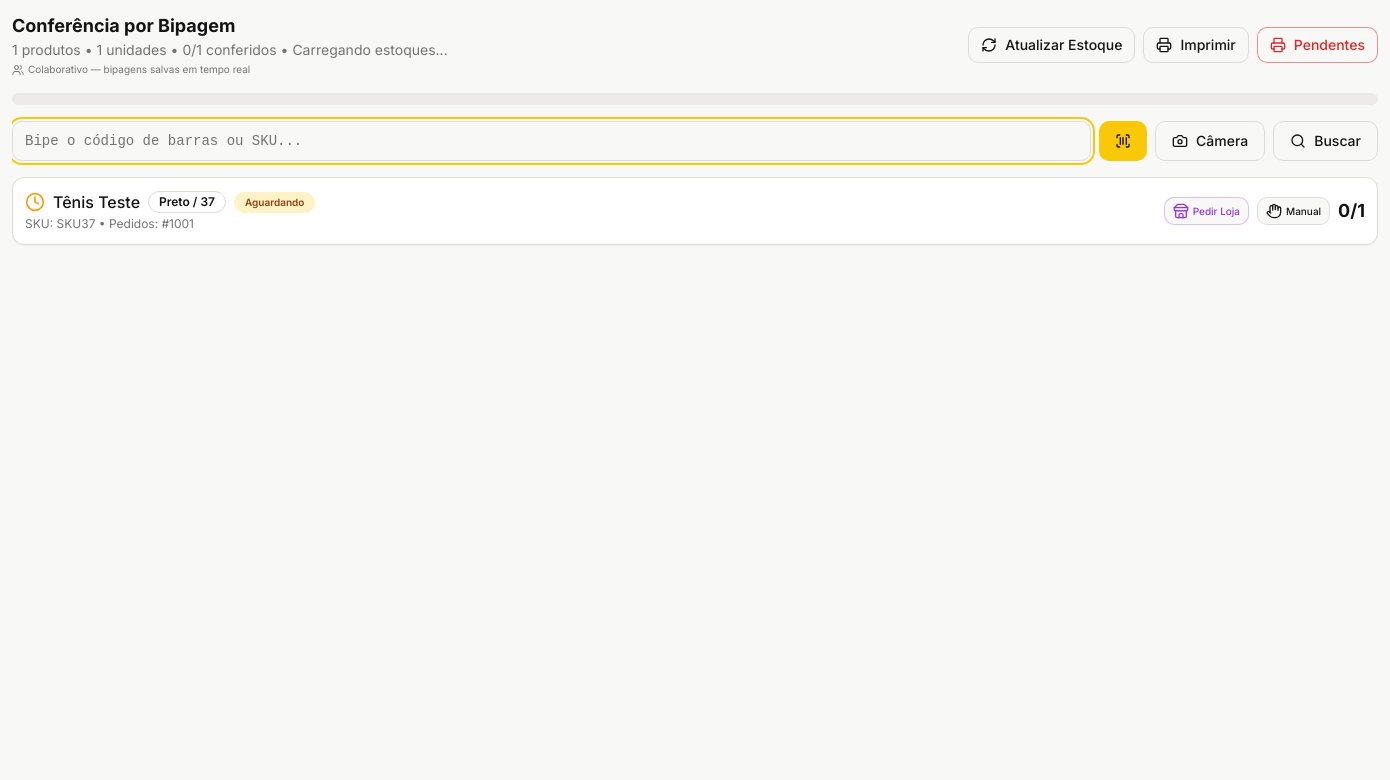
it: separação clássica e Beta › clássica registra código antigo e etiqueta nova
The width and height of the screenshot is (1390, 780).
Later steps or results of the test are not shown.
In the field with placeholder "Bipe o código de barras ou SKU...": (552, 141) [12, 121, 1091, 161], type "7891234567895"
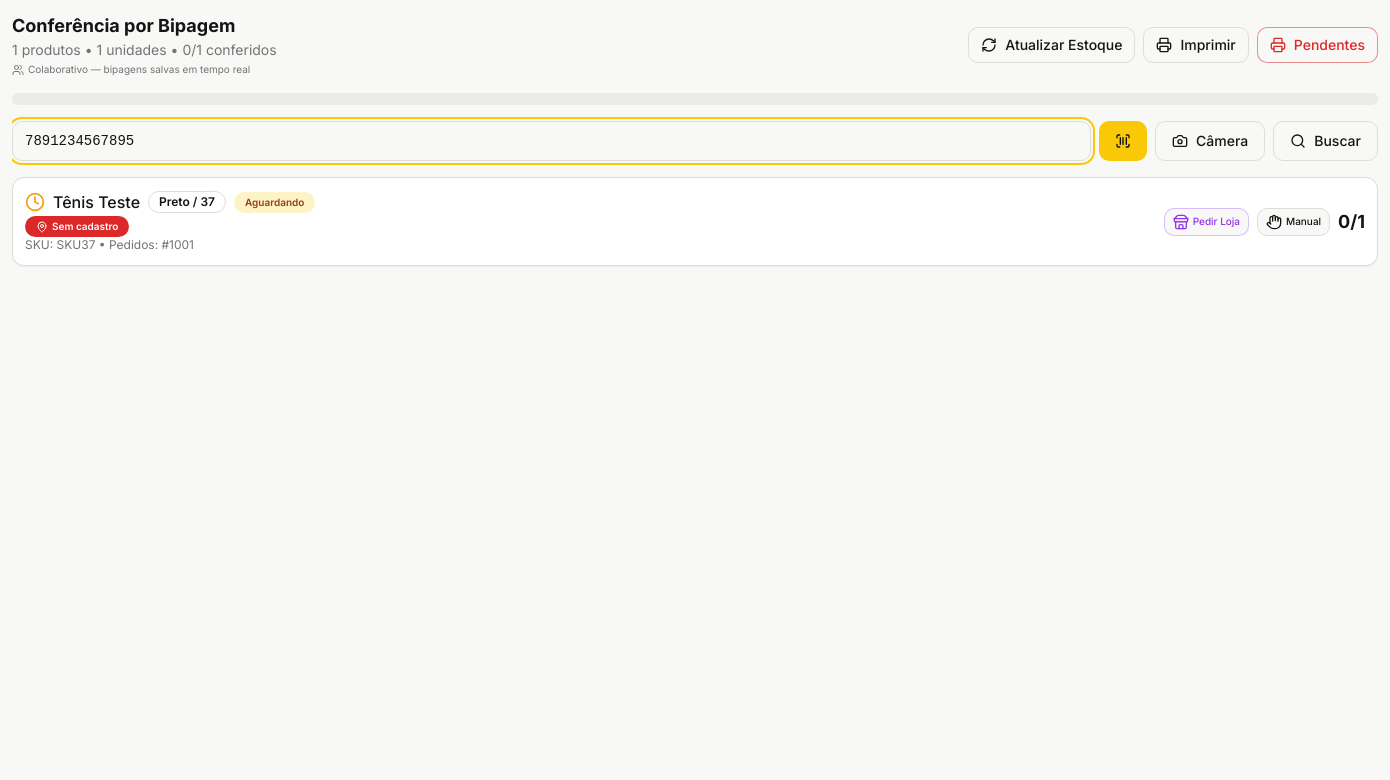
Press Enter in the field with placeholder "Bipe o código de barras ou SKU...", box [12, 121, 1091, 161]
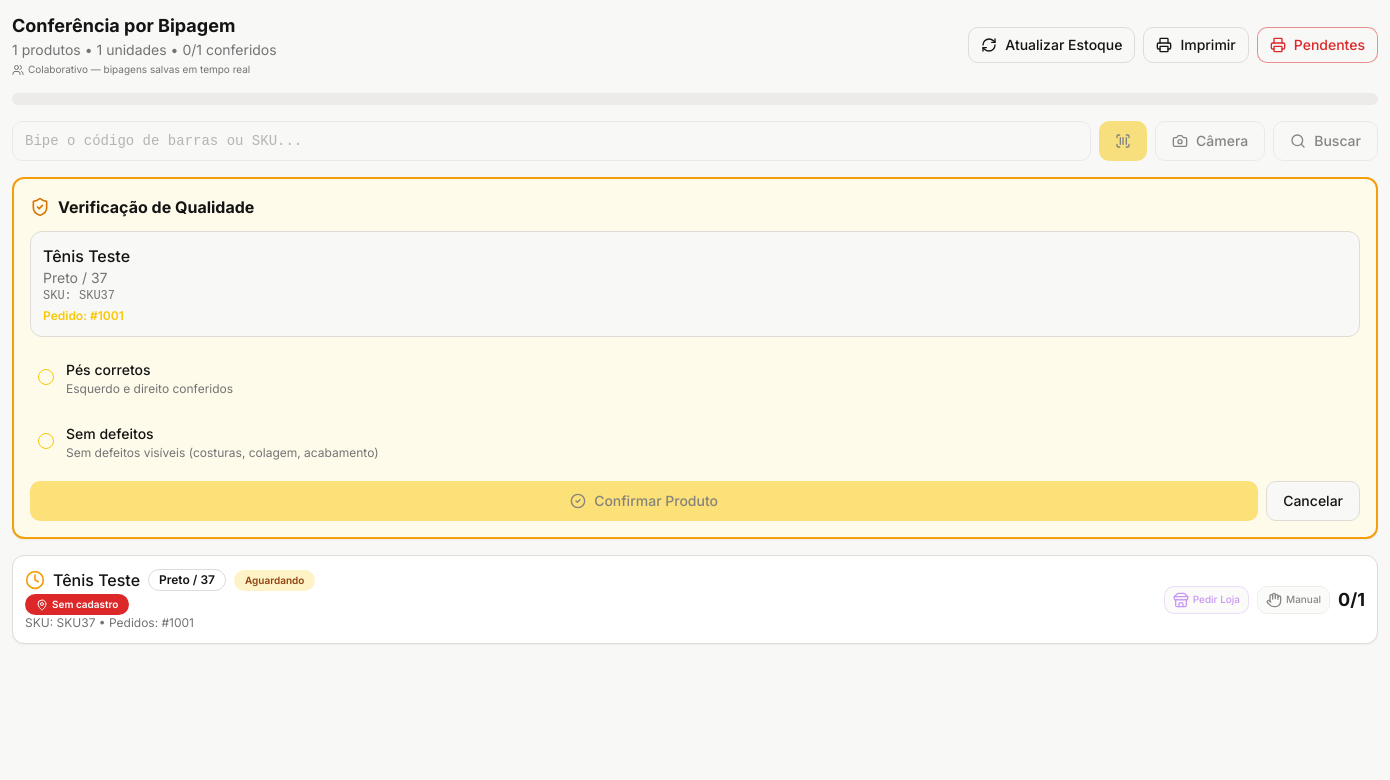
Click the checkbox next to "Pés corretos": click(46, 377) [38, 369, 54, 385]
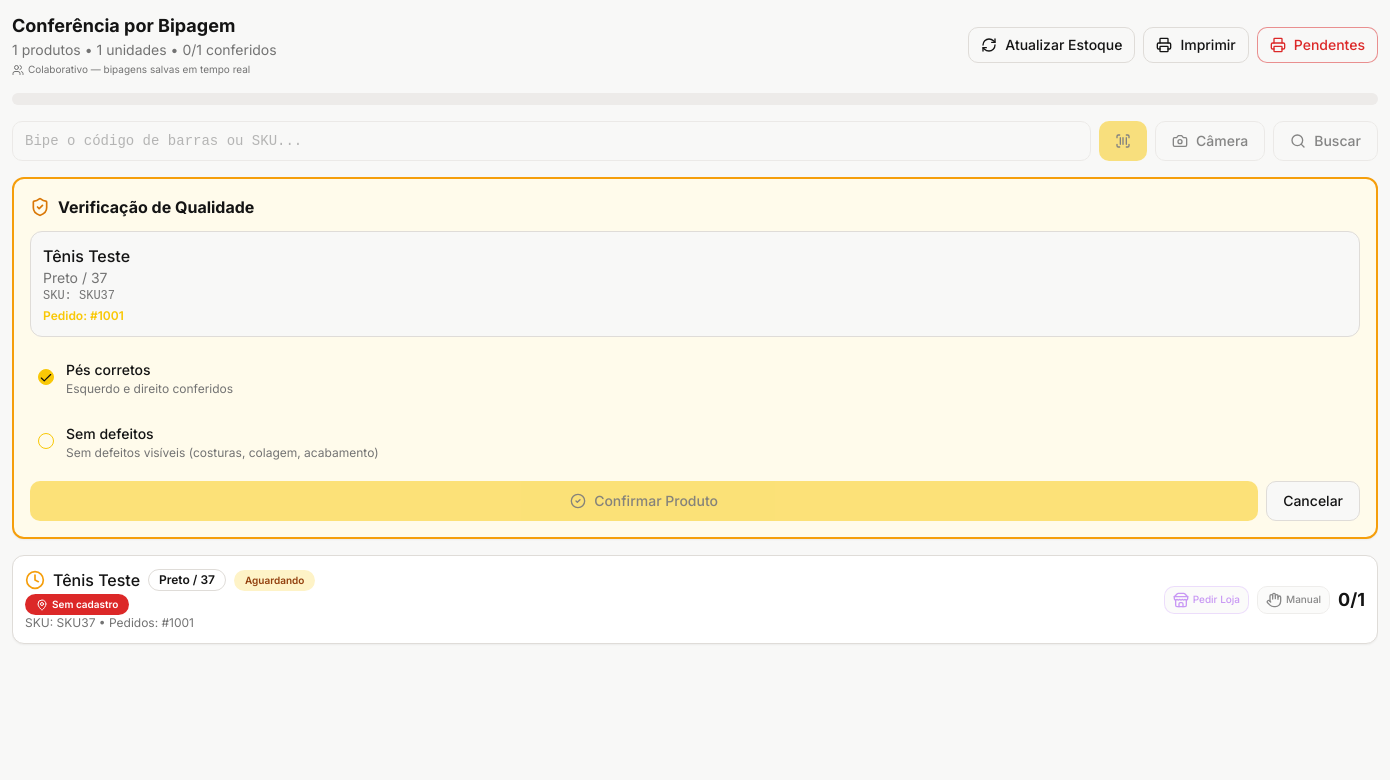
Click the 2nd checkbox: click(46, 441) [38, 433, 54, 449]
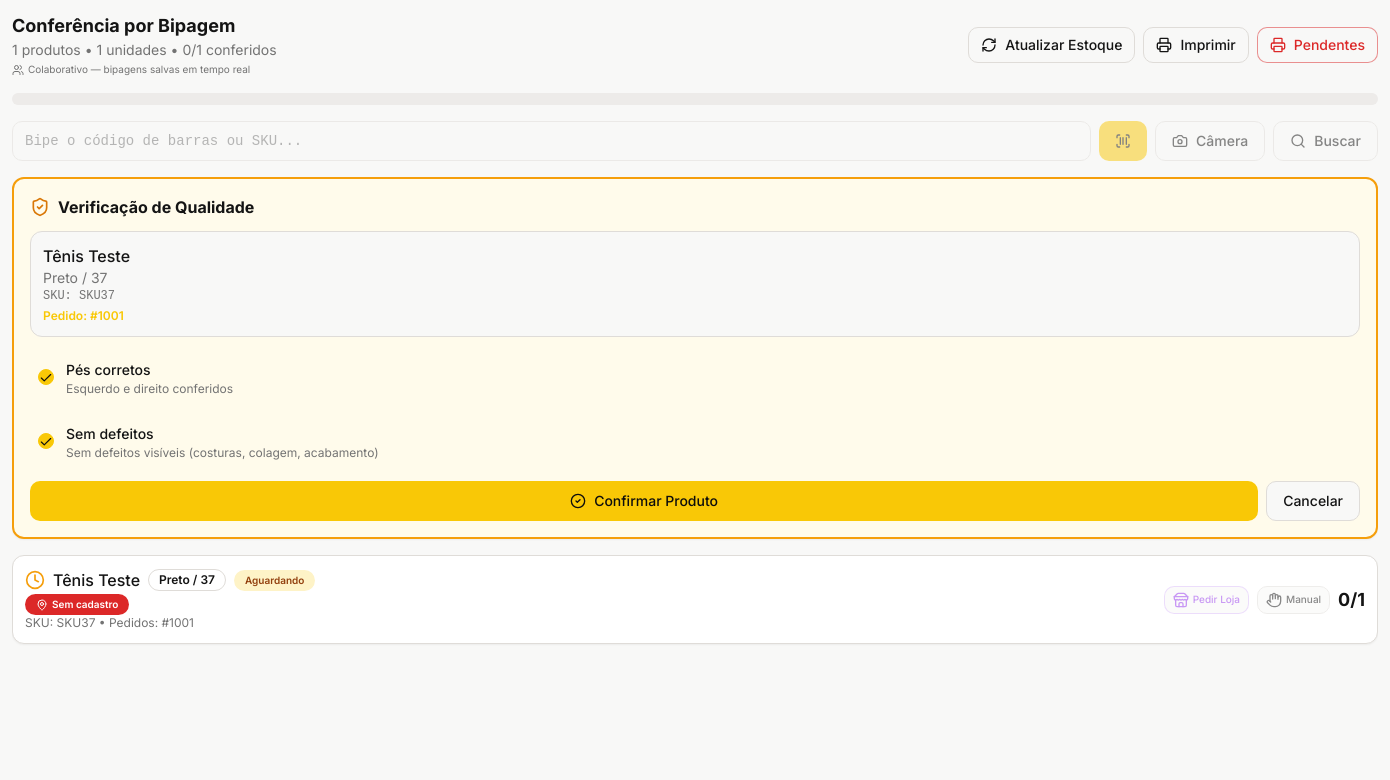
Expected: the button "Confirmar Produto" is enabled, [30, 481, 1258, 521]
